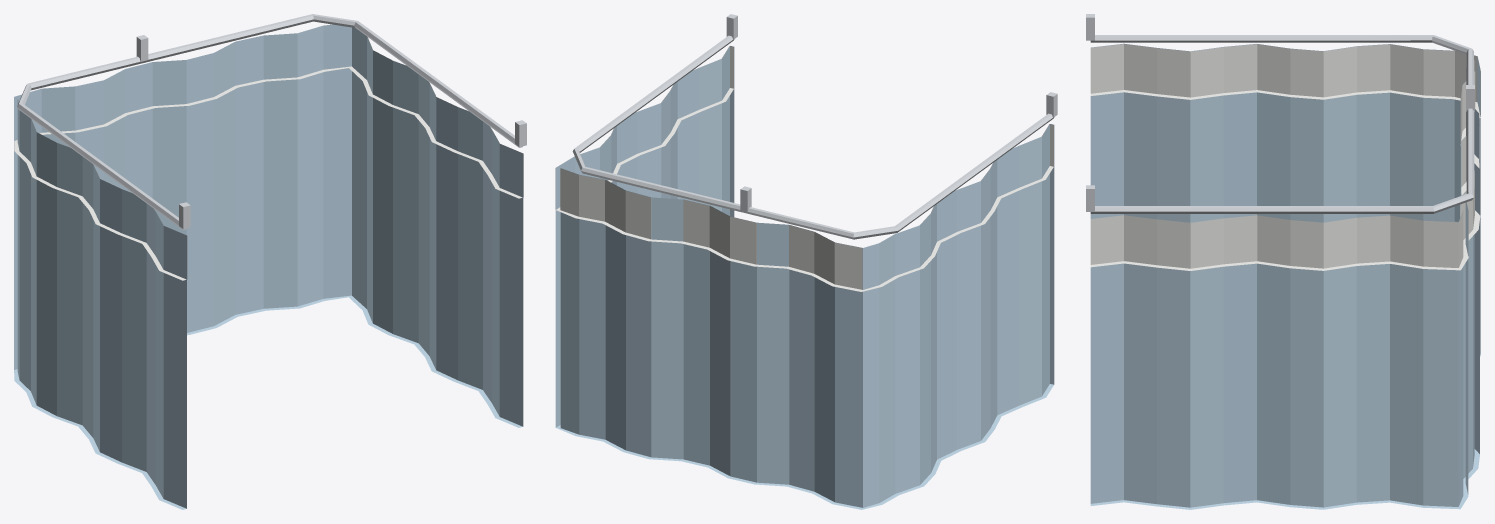
Rendered from hospital-wards-and-clinic-operations-curtain-rail-with-219d2fc4.glb.
3 renders of one model, left to right at view 1: azimuth 30°, elevation 25°; view 2: azimuth 150°, elevation 25°; view 3: azimuth 270°, elevation 25°, orthographic. The views are drawn at different scales.
Parts seen in each view (by area): view 1: curtain-rail-with-drape; view 2: curtain-rail-with-drape; view 3: curtain-rail-with-drape.
Part boxes in pixels (x1,y1,x2,y2): curtain-rail-with-drape: (14, 14, 526, 509); curtain-rail-with-drape: (555, 14, 1057, 509); curtain-rail-with-drape: (1086, 14, 1480, 509).
Size of the model in its own units: 2.37 by 1.94 by 2.18.
